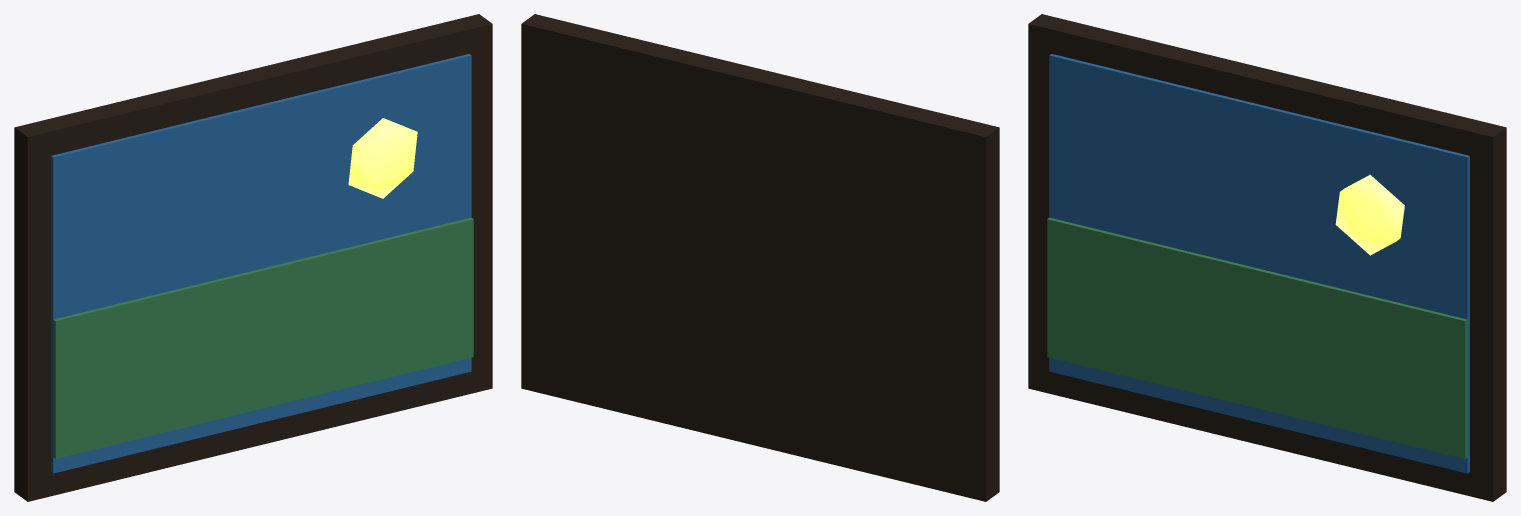
Rendered from painting.glb.
3 renders of one model, left to right at view 1: azimuth 30°, elevation 25°; view 2: azimuth 150°, elevation 25°; view 3: azimuth 330°, elevation 25°, orthographic.
Visible parts, largest first — view 1: sky, hill, frame.001, sun; view 2: frame.001; view 3: sky, hill, frame.001, sun.
Boxes of the visible parts, x1,y1,x2,y2 form: sky: [51, 54, 471, 473]; hill: [53, 217, 473, 458]; frame.001: [14, 14, 492, 501]; sun: [348, 118, 417, 198]; frame.001: [521, 14, 999, 501]; sky: [1049, 54, 1469, 473]; hill: [1047, 217, 1467, 458]; frame.001: [1028, 14, 1506, 501]; sun: [1335, 174, 1404, 255].
Size of the model in its own units: 1.2 by 0.9 by 0.107.
